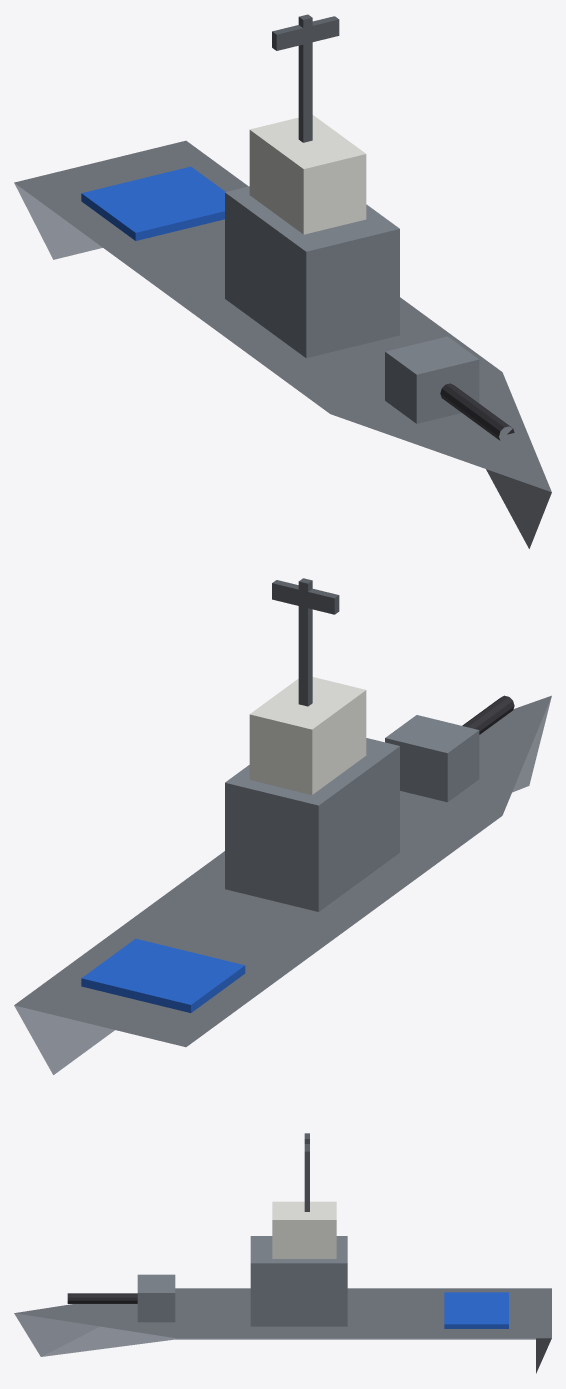
File: destroyer.glb
3 renders of one model, top to bottom at view 1: azimuth 30°, elevation 25°; view 2: azimuth 150°, elevation 25°; view 3: azimuth 270°, elevation 25°, orthographic. The views are drawn at different scales.
Parts seen in each view (by area): view 1: destroyer; view 2: destroyer; view 3: destroyer.
Part boxes in pixels (left/top/right/bottom): destroyer: left=14, top=14, right=551, bottom=548; destroyer: left=14, top=578, right=551, bottom=1074; destroyer: left=14, top=1133, right=551, bottom=1373.
Size of the model in its own units: 0.22 by 0.45 by 1.
